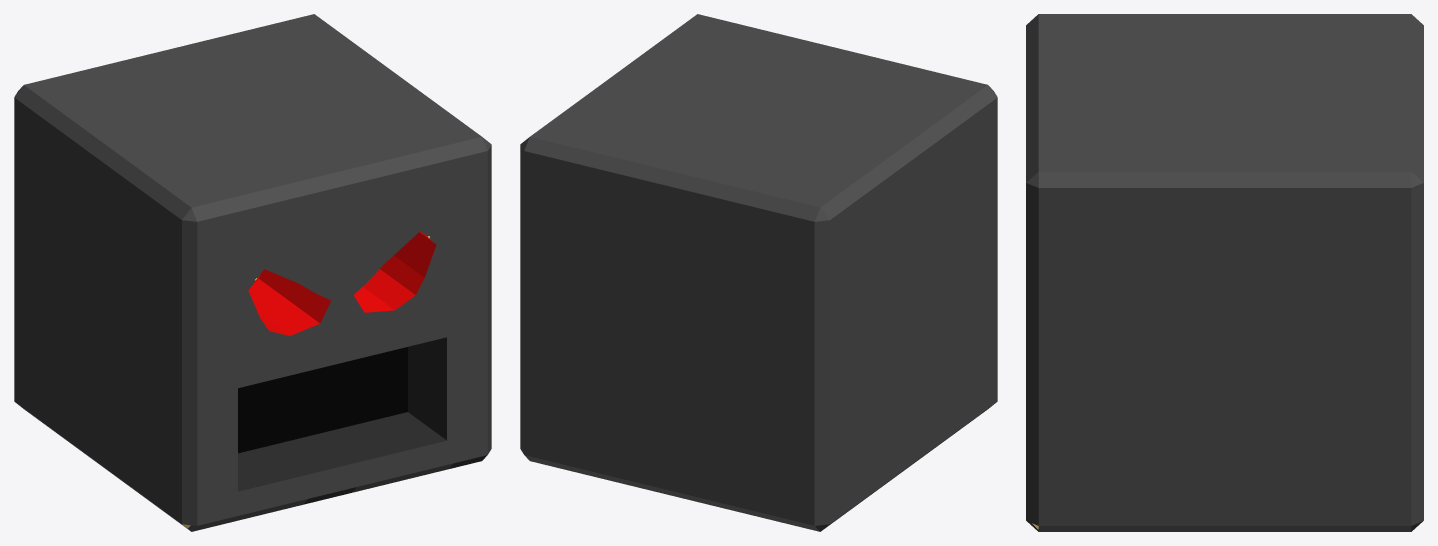
File: spawn.gltf
The picture shows the model from 3 angles, left to right: view 1: azimuth 30°, elevation 25°; view 2: azimuth 150°, elevation 25°; view 3: azimuth 270°, elevation 25°; orthographic projection. The views are drawn at different scales.
Visible parts, largest first — view 1: beveled_cuboid; view 2: beveled_cuboid; view 3: beveled_cuboid.
Boxes of the visible parts, x1,y1,x2,y2 form: beveled_cuboid: (14,14,491,531); beveled_cuboid: (520,14,997,531); beveled_cuboid: (1026,14,1423,531).
Bounding box in the file's own units: 2 × 2 × 2.
Materials: 1 (1 with a texture image).
